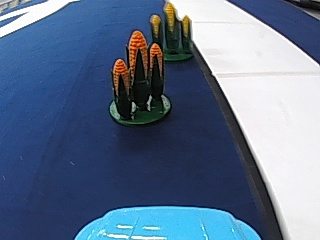corn: (105, 25, 171, 127), (152, 5, 196, 61)
